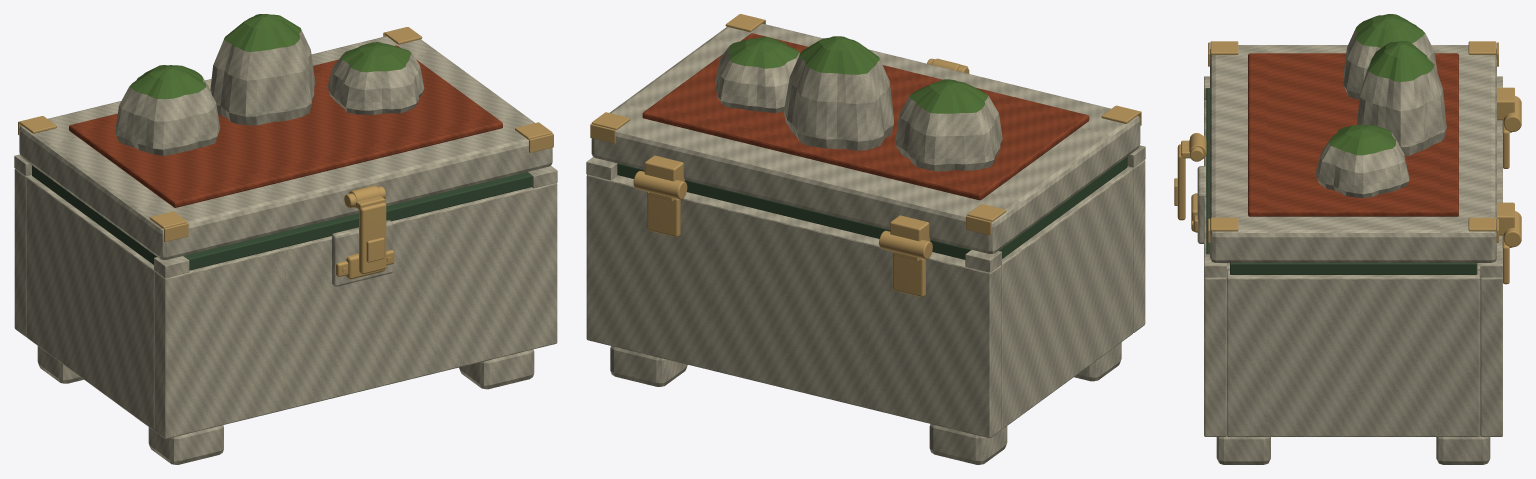
File: cuba.glb
3 renders of one model, left to right at view 1: azimuth 30°, elevation 25°; view 2: azimuth 150°, elevation 25°; view 3: azimuth 270°, elevation 25°, orthographic. The views are drawn at different scales.
Visible parts, largest first — view 1: Limestone / long wall, Lid / polished slab, Valley / earth plain, Limestone / end wall, Mogote / 2, Mogote / 1, Mogote / 3, Seam / long, Limestone / long wall.001, Limestone / foot, Limestone / foot.002, Latch / lifting hasp (+4 smaller); view 2: Limestone / long wall.001, Lid / polished slab, Limestone / end wall, Valley / earth plain, Mogote / 2, Mogote / 1, Mogote / 3, Seam / long.001, Limestone / foot.001, Limestone / long wall, Limestone / foot.003, Seam / side (+9 smaller); view 3: Limestone / end wall.001, Lid / polished slab, Valley / earth plain, Mogote / 2, Mogote / 3, Limestone / long wall.001, Limestone / long wall, Mogote / 1, Seam / side.001, Limestone / foot.002, Limestone / foot.003, Limestone / clasp seat (+12 smaller).
Boxes of the visible parts, bbox=[...] form: Limestone / long wall: bbox=[154, 183, 557, 438]; Lid / polished slab: bbox=[19, 36, 552, 259]; Valley / earth plain: bbox=[69, 45, 502, 207]; Limestone / end wall: bbox=[26, 175, 154, 430]; Mogote / 2: bbox=[210, 14, 315, 125]; Mogote / 1: bbox=[115, 65, 220, 155]; Mogote / 3: bbox=[328, 42, 424, 114]; Seam / long: bbox=[183, 172, 532, 270]; Limestone / long wall.001: bbox=[14, 168, 31, 336]; Limestone / foot: bbox=[148, 425, 223, 464]; Limestone / foot.002: bbox=[459, 349, 534, 389]; Latch / lifting hasp: bbox=[359, 202, 386, 274]; Limestone / long wall.001: bbox=[586, 174, 1001, 438]; Lid / polished slab: bbox=[591, 23, 1140, 253]; Limestone / end wall: bbox=[1001, 167, 1133, 429]; Valley / earth plain: bbox=[642, 33, 1089, 200]; Mogote / 2: bbox=[784, 36, 893, 150]; Mogote / 1: bbox=[895, 79, 1002, 171]; Mogote / 3: bbox=[715, 37, 799, 112]; Seam / long.001: bbox=[617, 163, 971, 259]; Limestone / foot.001: bbox=[929, 424, 1007, 464]; Limestone / long wall: bbox=[1127, 160, 1145, 332]; Limestone / foot.003: bbox=[610, 346, 687, 386]; Seam / side: bbox=[998, 156, 1127, 258]; Limestone / end wall.001: bbox=[1227, 270, 1480, 436]; Lid / polished slab: bbox=[1210, 45, 1496, 262]; Valley / earth plain: bbox=[1248, 53, 1458, 216]; Mogote / 2: bbox=[1357, 41, 1446, 155]; Mogote / 3: bbox=[1315, 124, 1409, 198]; Limestone / long wall.001: bbox=[1480, 120, 1502, 436]; Limestone / long wall: bbox=[1204, 100, 1226, 436]; Mogote / 1: bbox=[1343, 14, 1437, 99]; Seam / side.001: bbox=[1230, 263, 1477, 274]; Limestone / foot.002: bbox=[1216, 436, 1270, 464]; Limestone / foot.003: bbox=[1436, 436, 1490, 464]; Limestone / clasp seat: bbox=[1197, 166, 1206, 243].
Bounding box in the file's own units: 3.72 × 3.08 × 2.88.
Materials: 5 (2 with a texture image).
